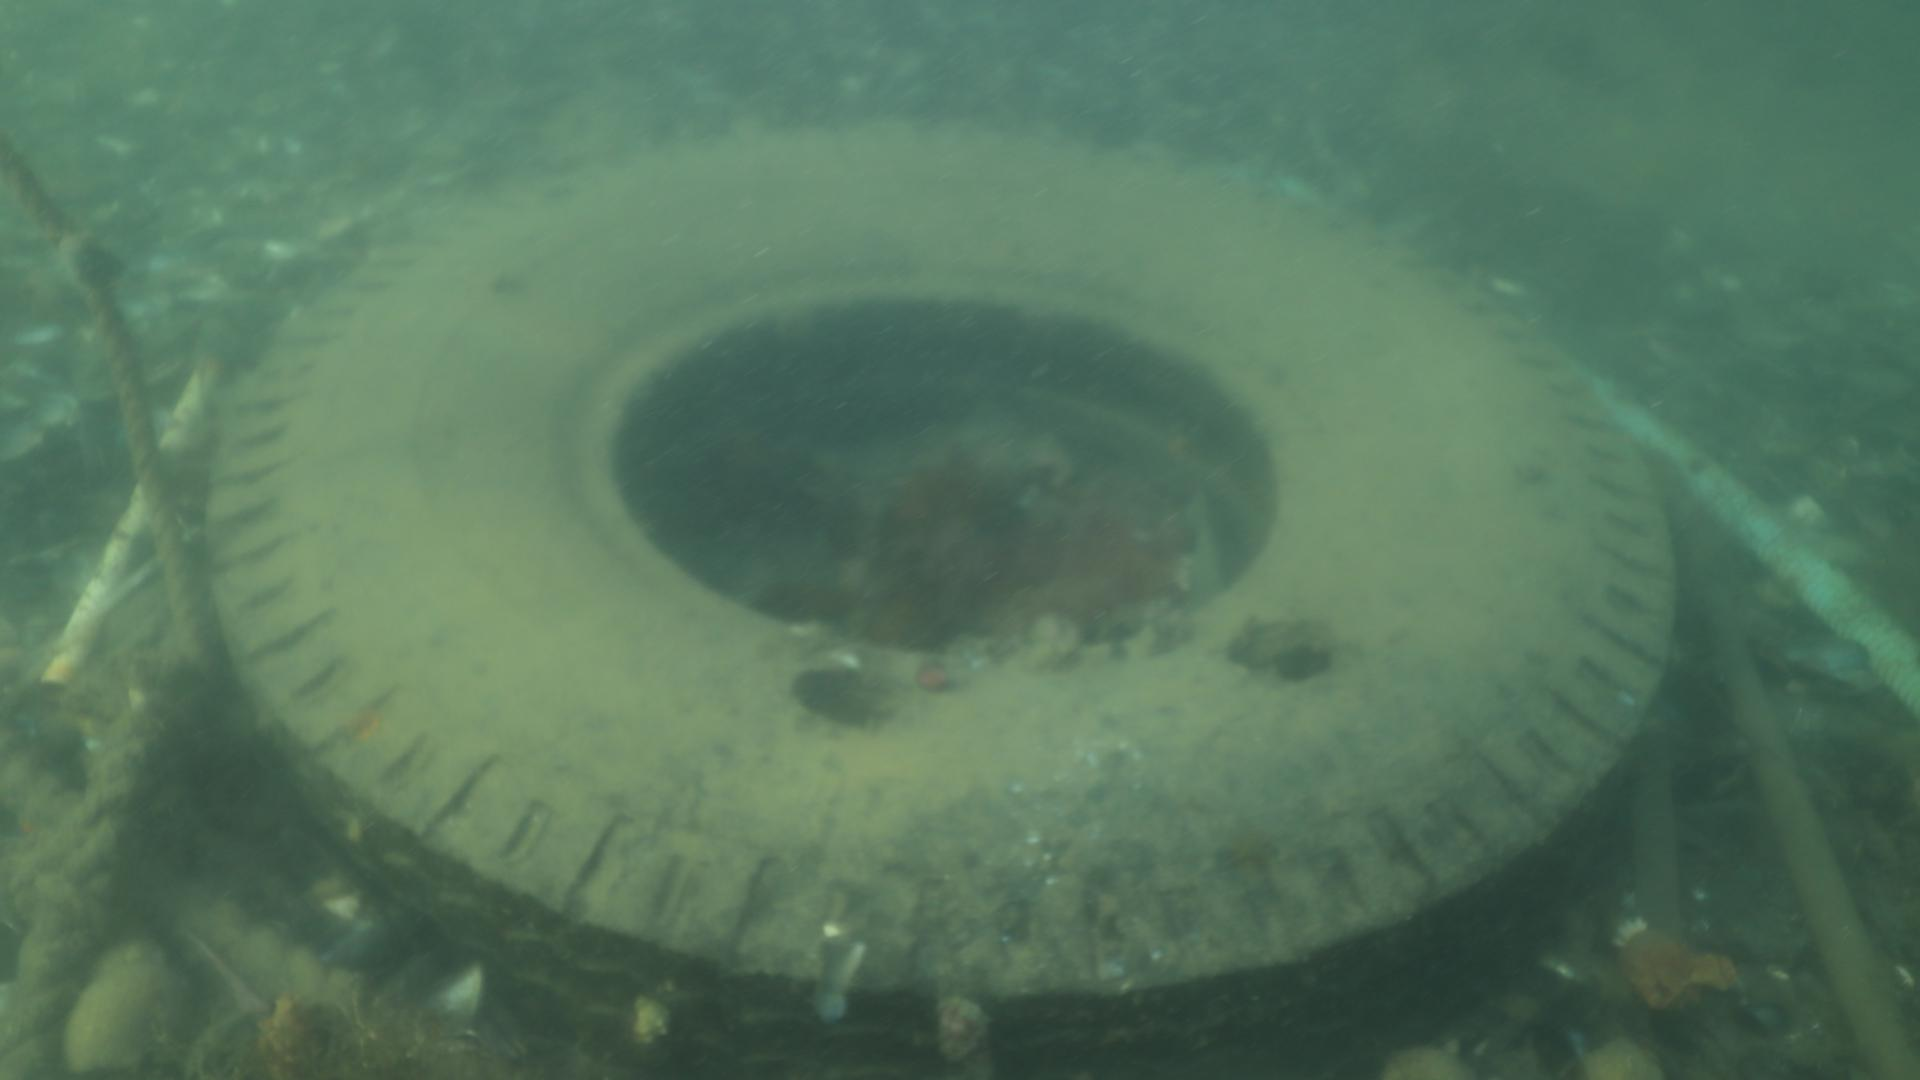rope: (0, 131, 203, 663), (0, 666, 185, 1080)
tire: (204, 119, 1676, 1080)
